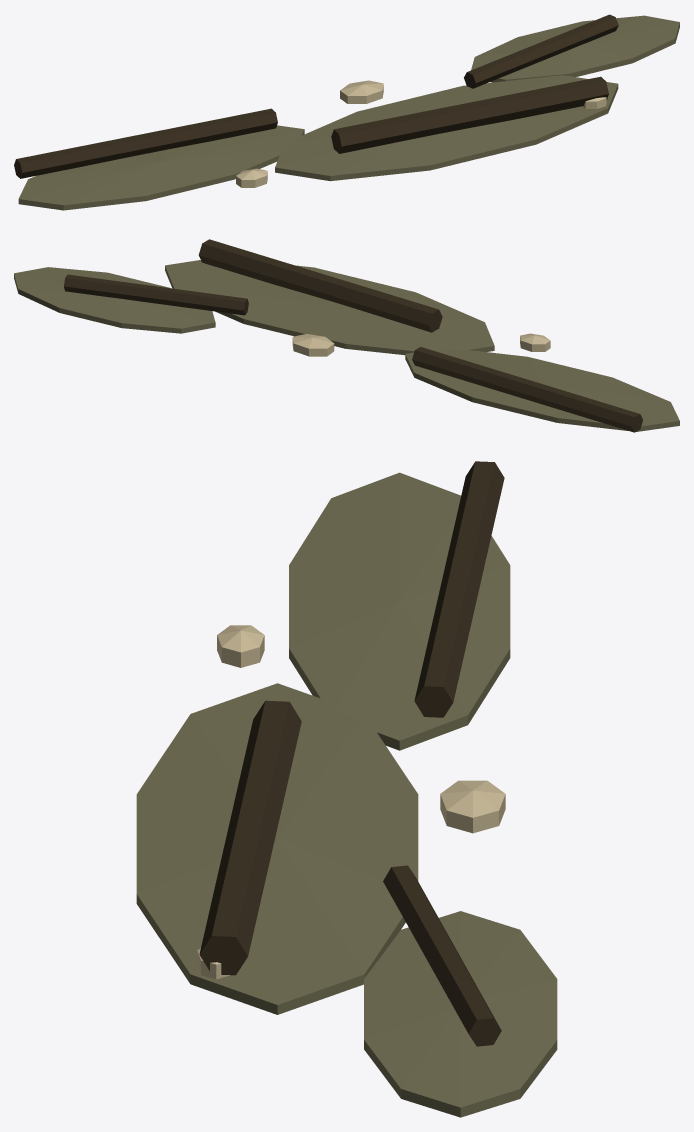
The model's file is river_debris_a.obj.
3 views of the same model, one above another, from view 1: azimuth 30°, elevation 25°; view 2: azimuth 150°, elevation 25°; view 3: azimuth 270°, elevation 25° (orthographic). The views are drawn at different scales.
Visible parts, largest first — view 1: silt_lobe_1, silt_lobe_0, stranded_fibre_1, silt_lobe_2, stranded_fibre_0, stranded_fibre_2, grain_1, grain_0; view 2: silt_lobe_1, silt_lobe_0, silt_lobe_2, stranded_fibre_1, stranded_fibre_0, stranded_fibre_2, grain_1, grain_0; view 3: silt_lobe_1, silt_lobe_0, silt_lobe_2, stranded_fibre_1, stranded_fibre_0, stranded_fibre_2, grain_1, grain_0.
Boxes of the visible parts, x1,y1,x2,y2 form: silt_lobe_1: [275, 75, 618, 181]; silt_lobe_0: [18, 125, 304, 210]; stranded_fibre_1: [331, 76, 608, 153]; silt_lobe_2: [471, 15, 679, 82]; stranded_fibre_0: [14, 108, 277, 178]; stranded_fibre_2: [464, 14, 618, 88]; grain_1: [340, 80, 383, 103]; grain_0: [236, 168, 267, 187]; silt_lobe_1: [165, 260, 494, 355]; silt_lobe_0: [405, 349, 679, 431]; silt_lobe_2: [14, 267, 215, 333]; stranded_fibre_1: [198, 239, 442, 332]; stranded_fibre_0: [412, 347, 642, 432]; stranded_fibre_2: [64, 274, 248, 315]; grain_1: [292, 334, 334, 356]; grain_0: [520, 333, 550, 351]; silt_lobe_1: [136, 683, 418, 1014]; silt_lobe_0: [289, 472, 510, 750]; silt_lobe_2: [364, 911, 557, 1117]; stranded_fibre_1: [199, 700, 301, 975]; stranded_fibre_0: [414, 461, 504, 717]; stranded_fibre_2: [383, 865, 501, 1046]; grain_1: [440, 780, 505, 833]; grain_0: [217, 625, 264, 667].
Size of the model in its own units: 6.15 by 0.2566 by 1.72.
